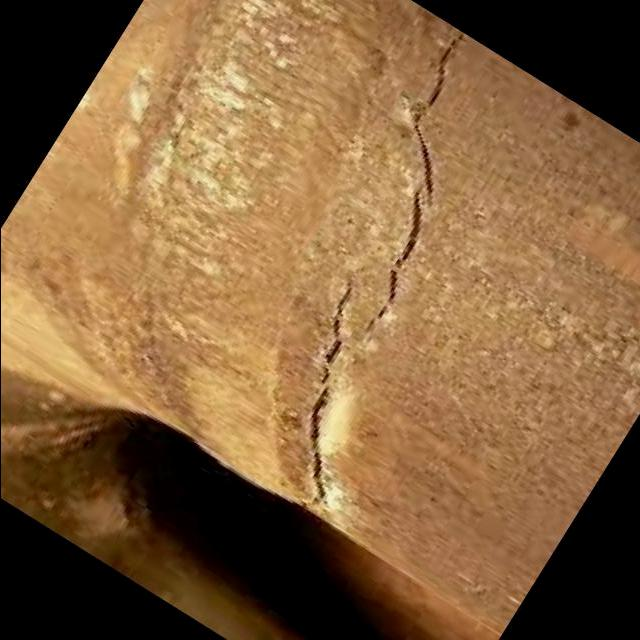defect: (361, 25, 475, 345), (294, 262, 361, 513)
